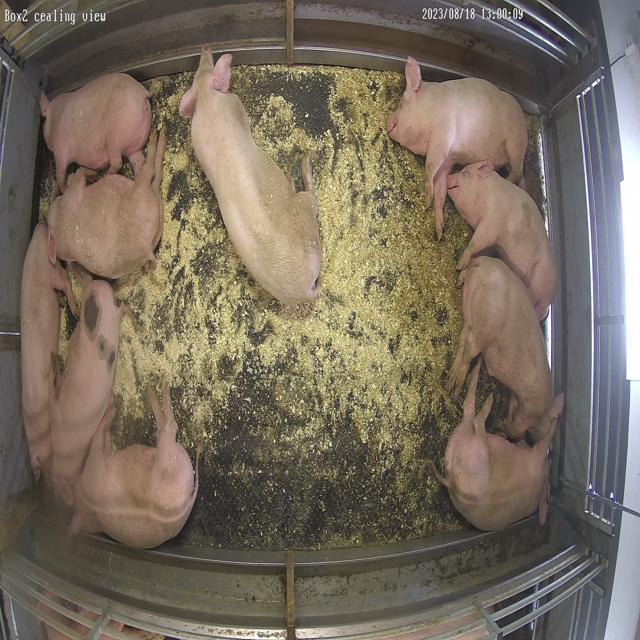Dirt: (193, 75, 469, 550)
Pig: (180, 48, 321, 304), (388, 57, 528, 240), (70, 383, 197, 550), (441, 363, 558, 532), (450, 257, 555, 442), (48, 130, 166, 278), (448, 161, 558, 318), (51, 280, 120, 505), (40, 73, 151, 190), (20, 224, 70, 478)
